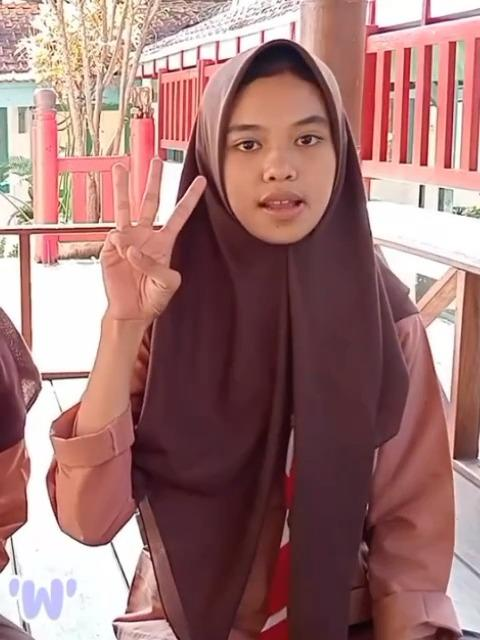W: (98, 154, 208, 324)
